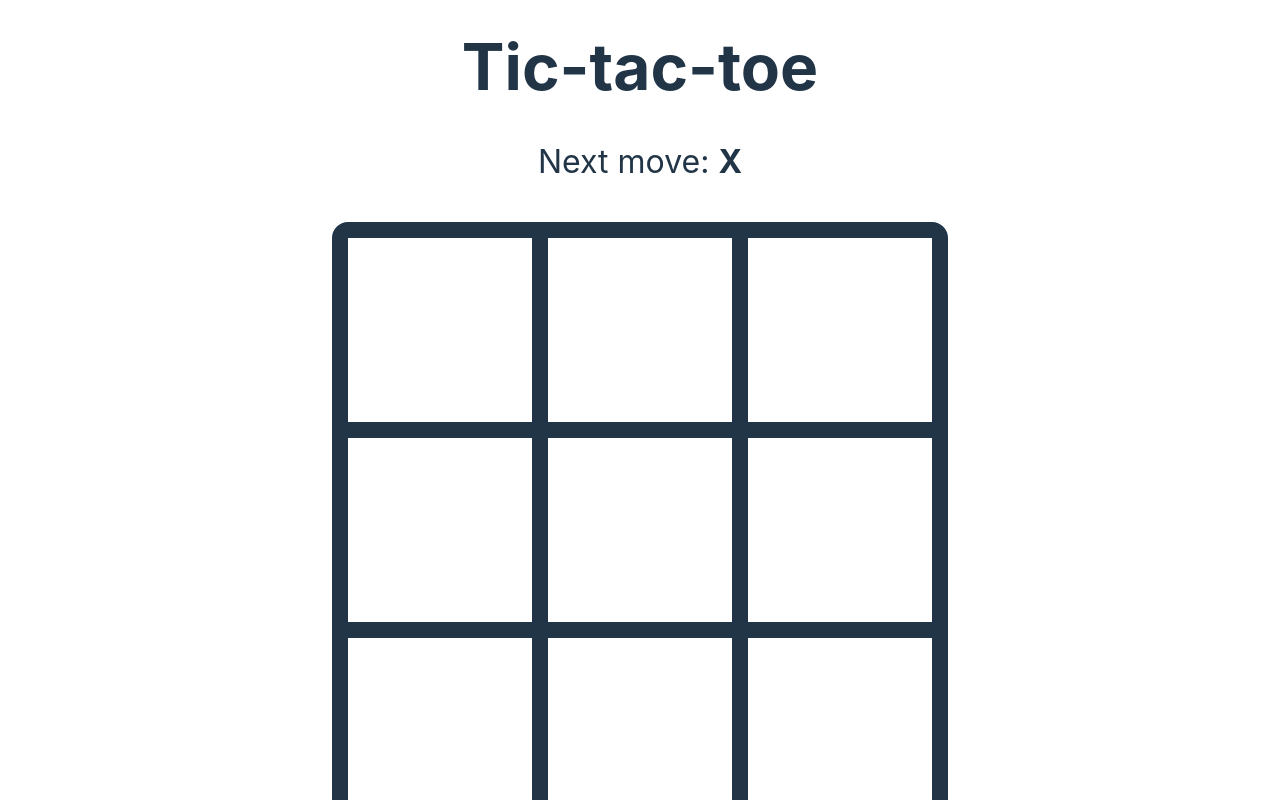
Scenario: App › End of game › should display X winner message when X gets 3 in a row
What coordinates should you click on to do the following:
click the element with test id "cell-0"
I would click on:
 (440, 330)
Its box is left=340, top=230, right=540, bottom=430.
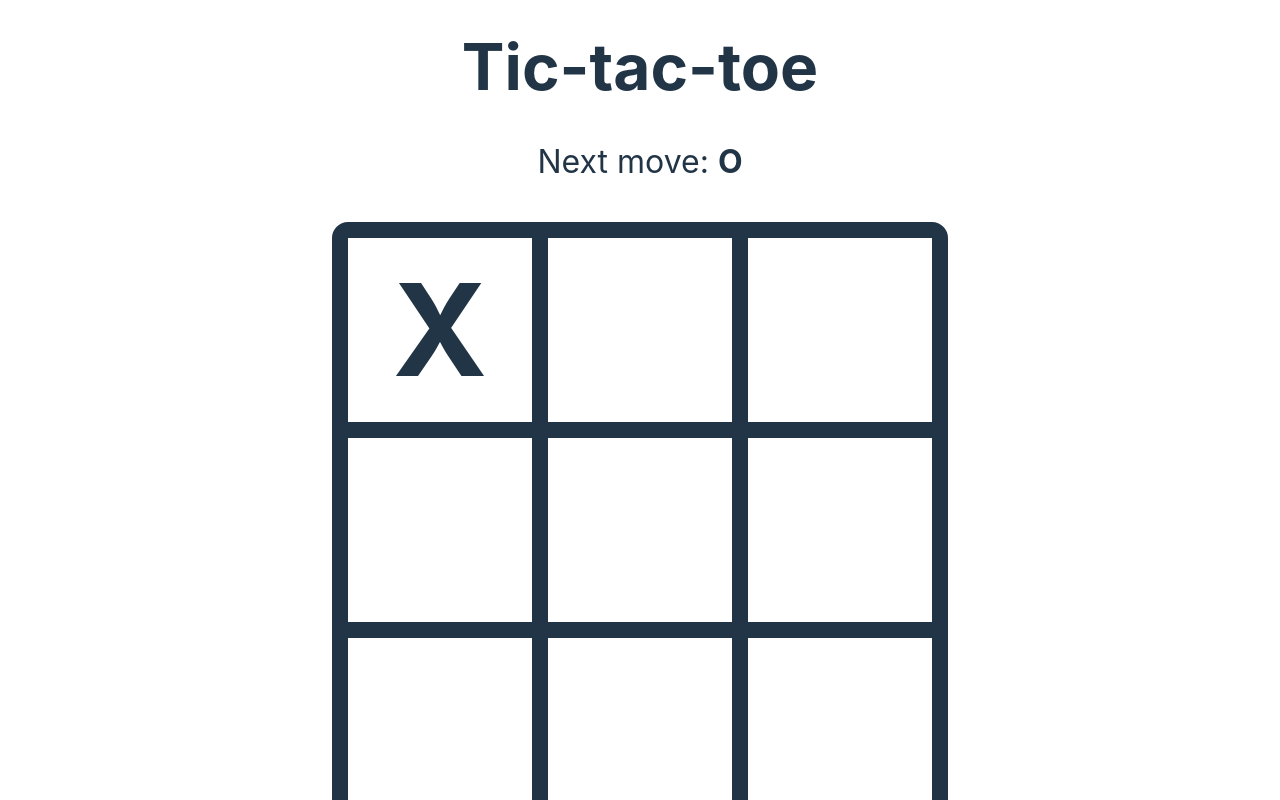
What coordinates should you click on to do the following:
click the element with test id "cell-3"
I would click on:
 (440, 530)
Its box is left=340, top=430, right=540, bottom=630.
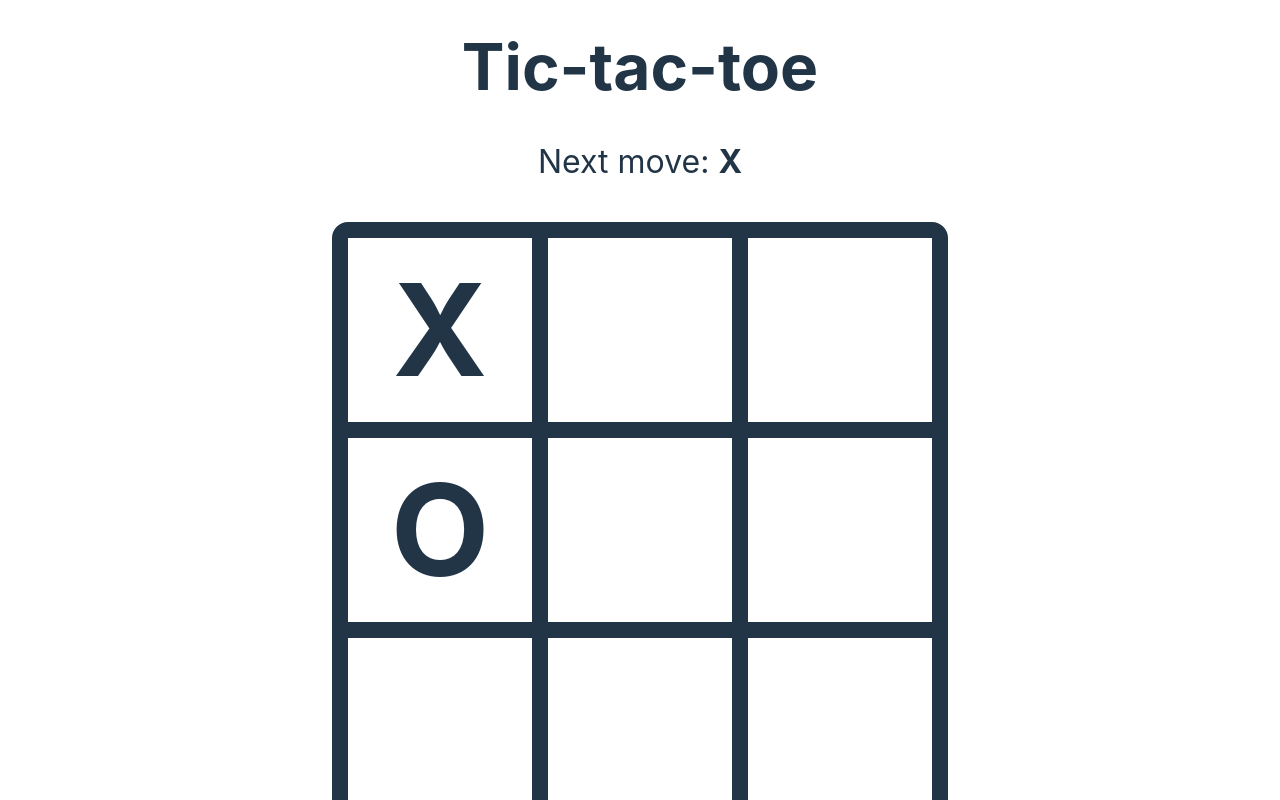
What coordinates should you click on to do the following:
click the element with test id "cell-1"
I would click on:
 (640, 330)
Its box is left=540, top=230, right=740, bottom=430.
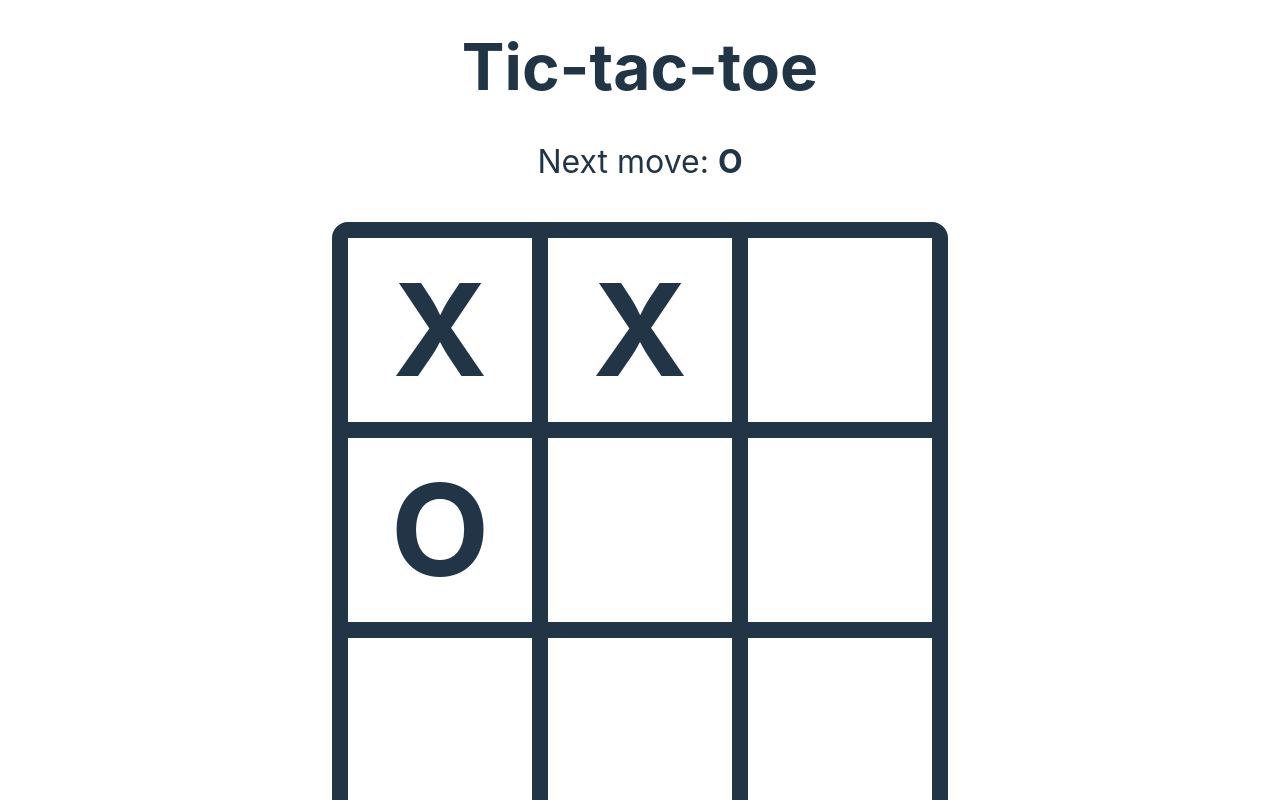
What coordinates should you click on to do the following:
click the element with test id "cell-4"
I would click on:
 (640, 530)
Its box is left=540, top=430, right=740, bottom=630.
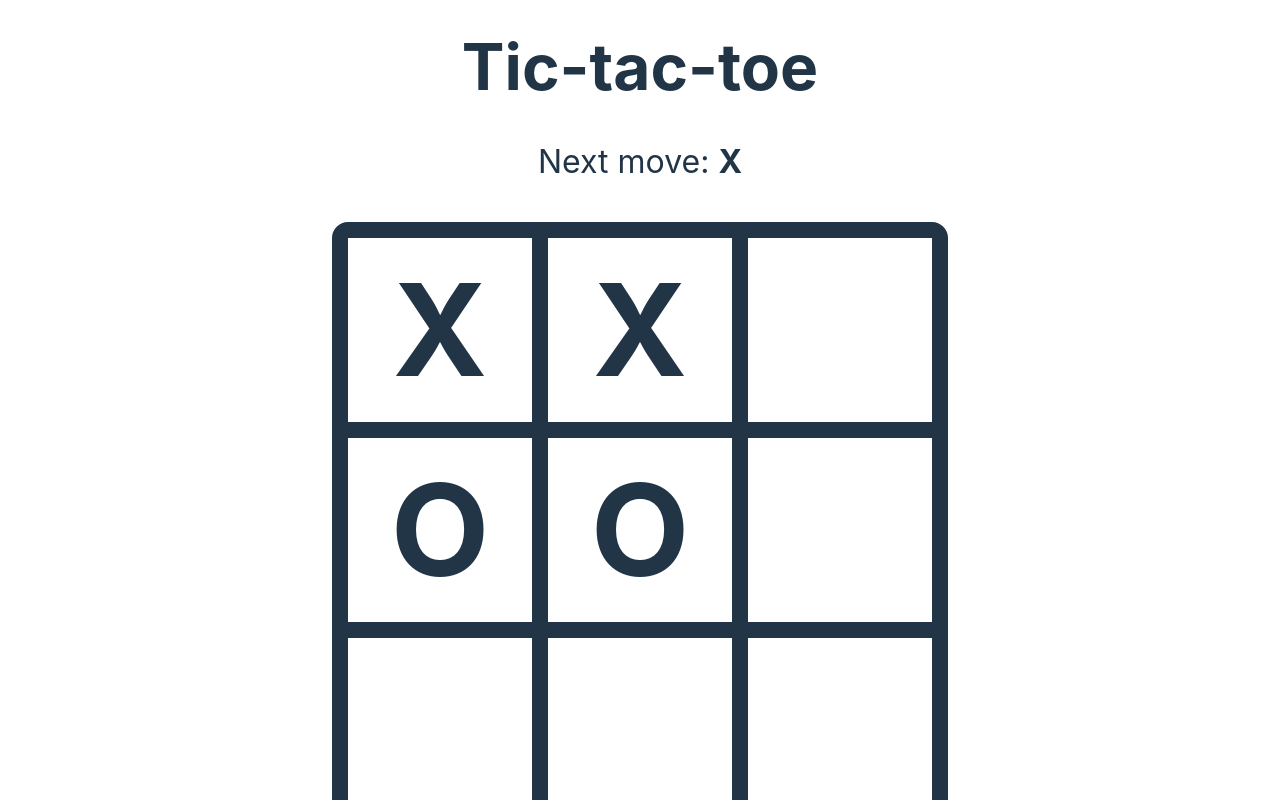
What coordinates should you click on to do the following:
click the element with test id "cell-2"
I would click on:
 (840, 330)
Its box is left=740, top=230, right=940, bottom=430.
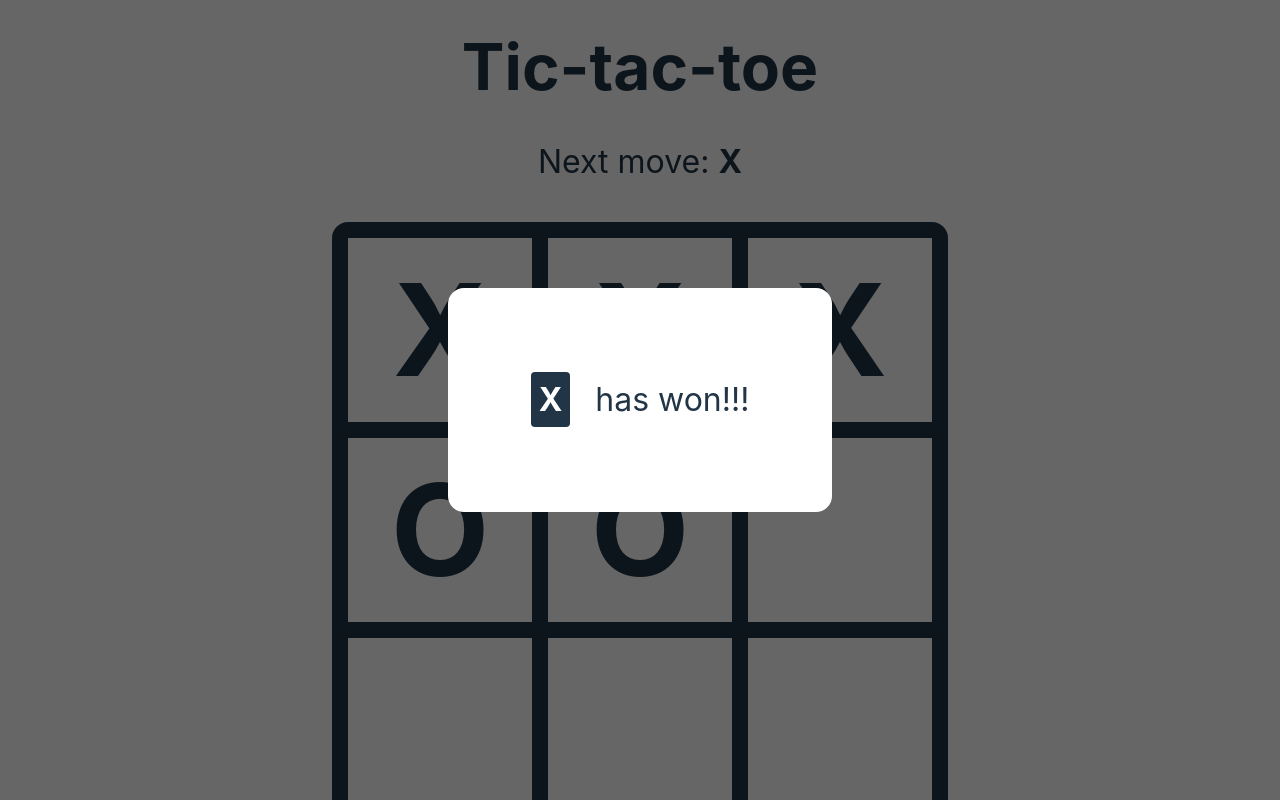
Expected: the text "X" is shown, left=531, top=372, right=570, bottom=427
